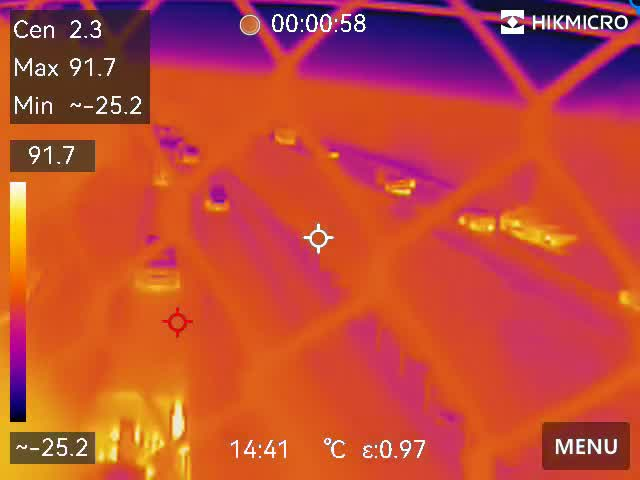vehicle: (498, 202, 588, 254), (129, 234, 188, 295), (450, 204, 499, 235), (202, 179, 231, 213)
